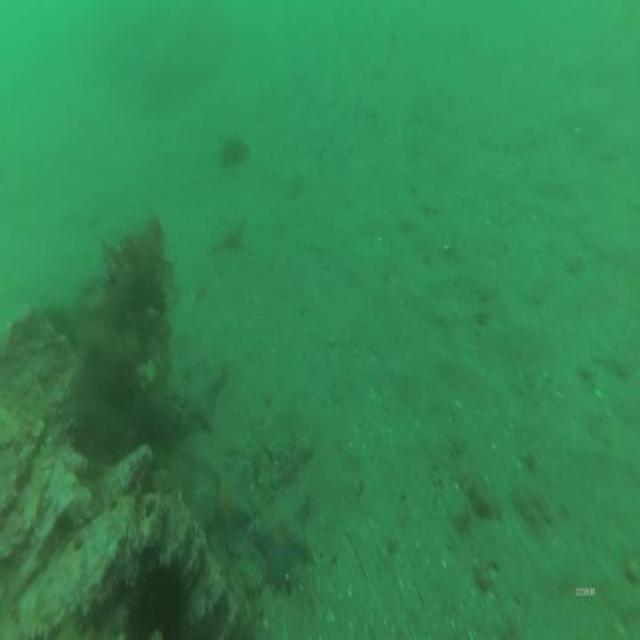echinus: (126, 562, 183, 640), (221, 142, 247, 164)
starfish: (257, 488, 312, 580), (212, 464, 255, 552), (178, 366, 221, 426)
